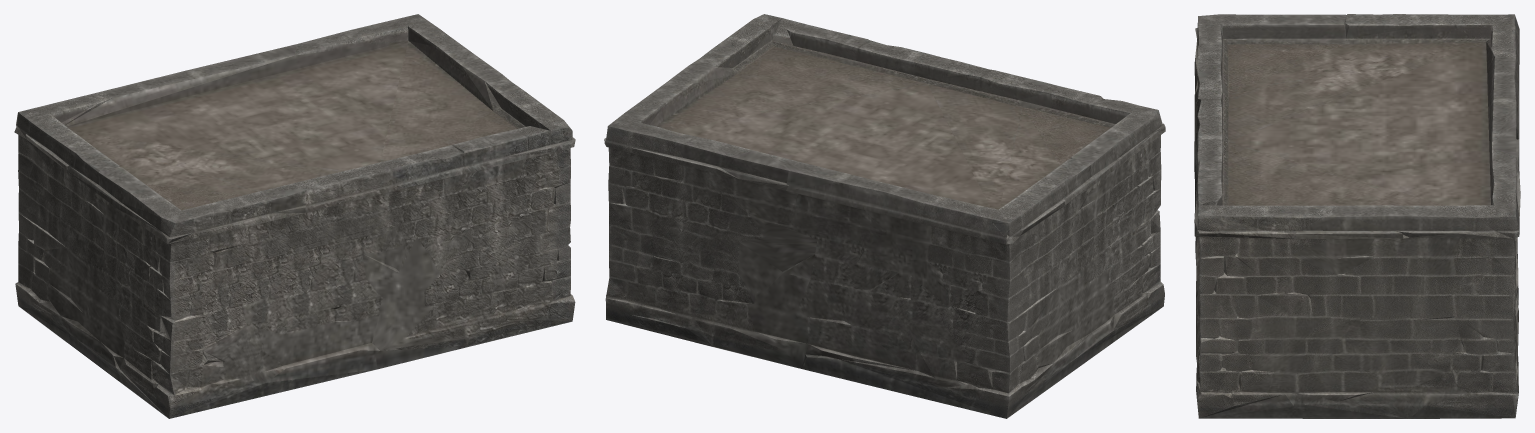
Rendered from stone_block.glb.
The picture shows the model from 3 angles, left to right: view 1: azimuth 30°, elevation 25°; view 2: azimuth 150°, elevation 25°; view 3: azimuth 270°, elevation 25°; orthographic projection. The views are drawn at different scales.
Parts seen in each view (by area): view 1: stone_block; view 2: stone_block; view 3: stone_block.
Part boxes in pixels (x1,y1,x2,y2): stone_block: [14, 14, 575, 418]; stone_block: [604, 14, 1165, 418]; stone_block: [1194, 14, 1520, 418].
Bounding box in the file's own units: 1.9 × 0.8708 × 1.27.
1 material, 1 textured.
